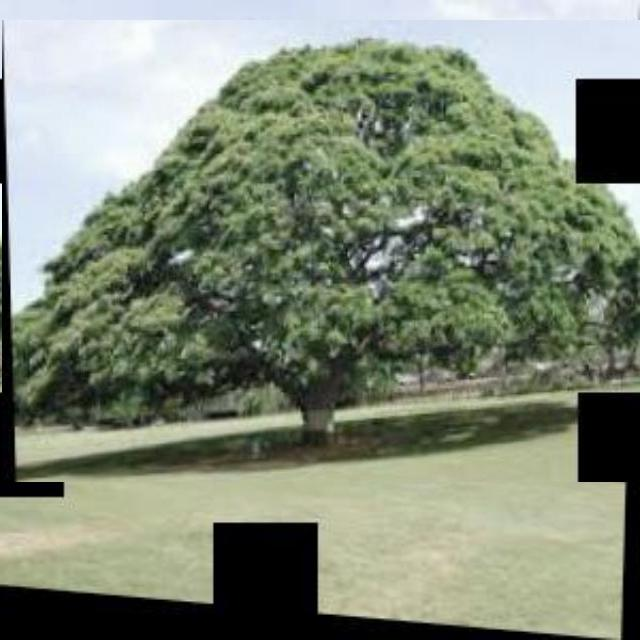tree: (2, 20, 640, 482)
